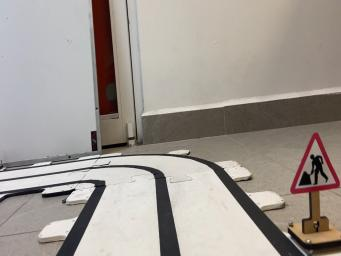stop: (288, 132, 341, 249), (288, 132, 341, 249), (288, 132, 341, 249), (288, 132, 341, 249), (288, 132, 341, 249), (288, 132, 341, 249)
street: (0, 155, 302, 255), (0, 155, 302, 255), (0, 155, 302, 255), (0, 155, 302, 255), (0, 155, 302, 255), (0, 155, 302, 255)
